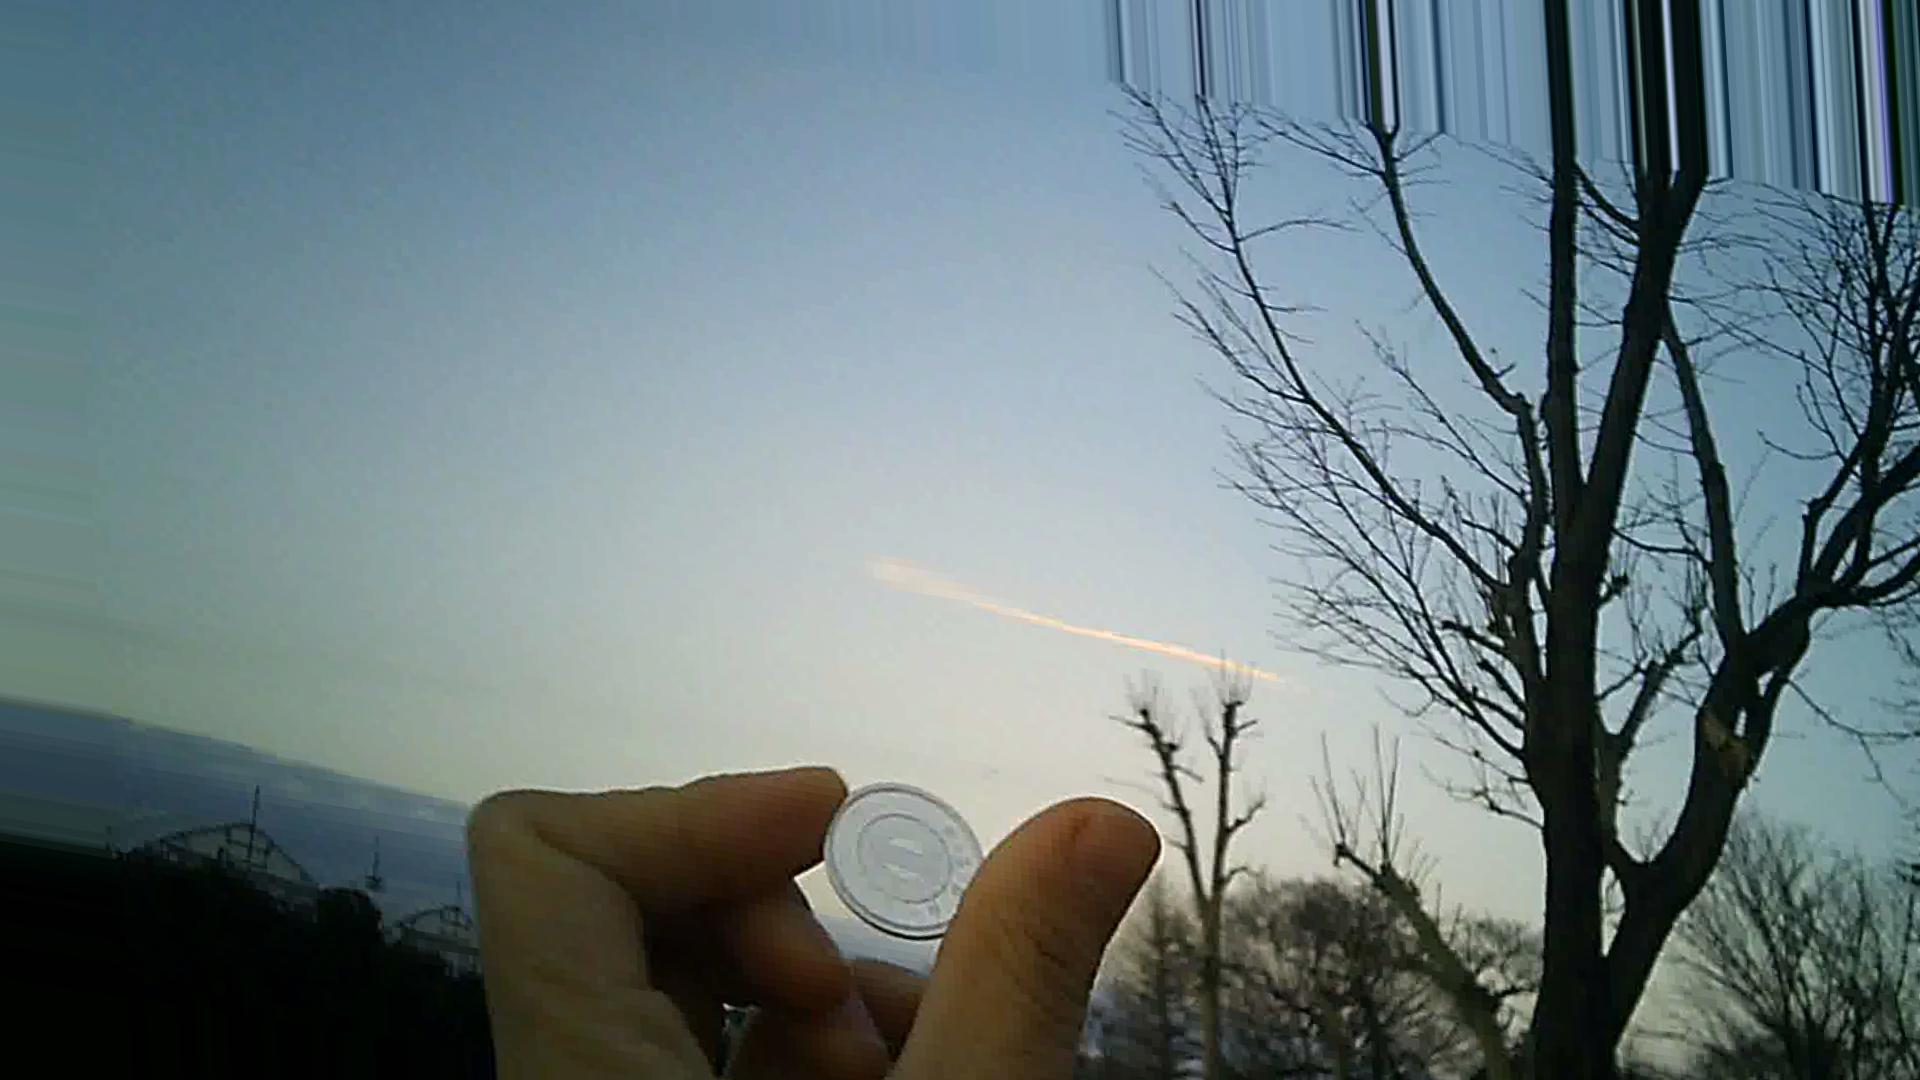1 Yen: (822, 775, 997, 938)
